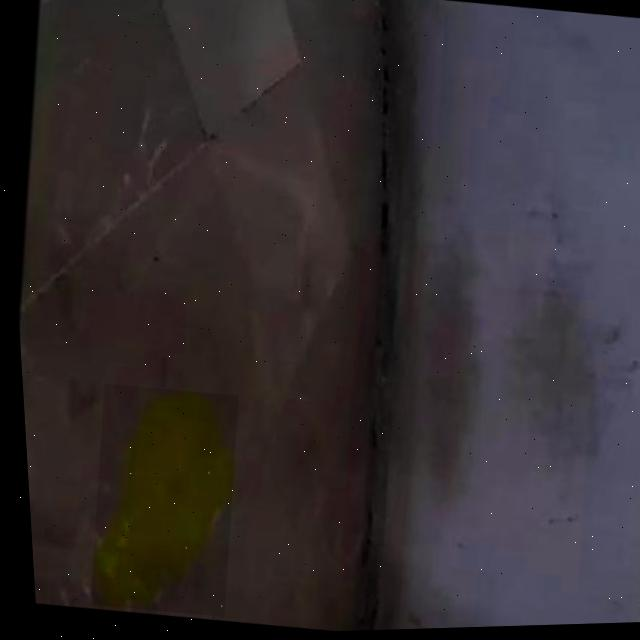spillage: (84, 391, 226, 608)
